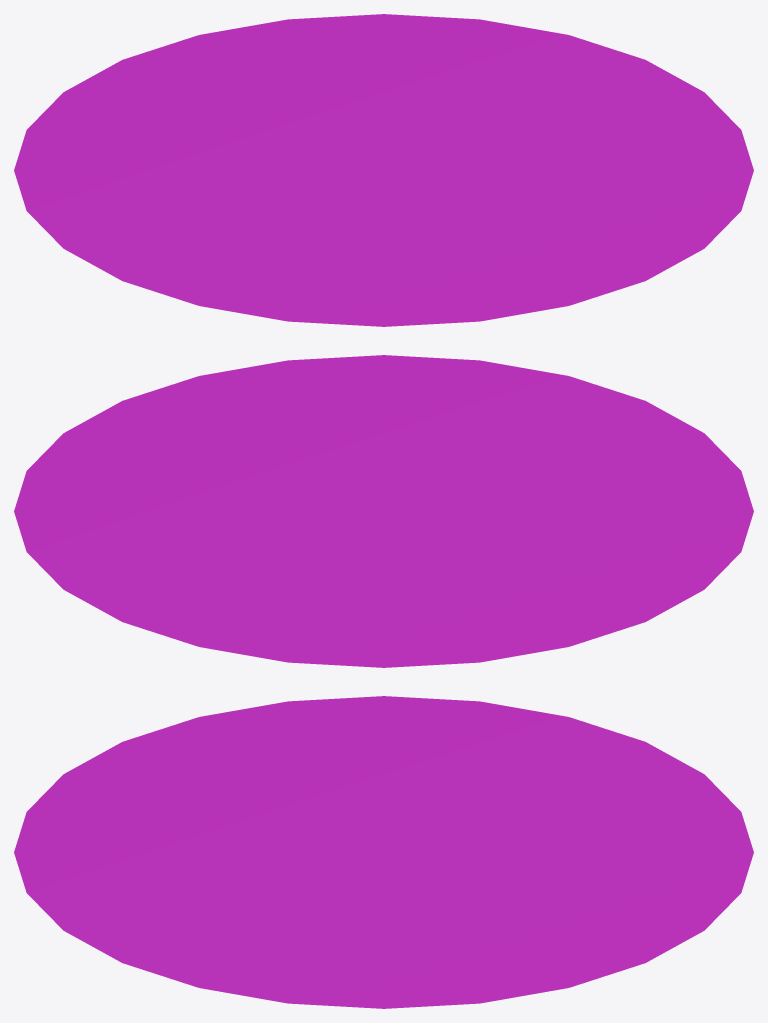
File: shockwave.fbx
3 views of the same model, one above another, from view 1: azimuth 30°, elevation 25°; view 2: azimuth 150°, elevation 25°; view 3: azimuth 270°, elevation 25° (orthographic).
Visible parts, largest first — view 1: shockwave; view 2: shockwave; view 3: shockwave.
Boxes of the visible parts, x1,y1,x2,y2 form: shockwave: (14,14,753,326); shockwave: (14,355,753,667); shockwave: (14,696,753,1008).
Size of the model in its own units: 5000 by 1 by 5000.
